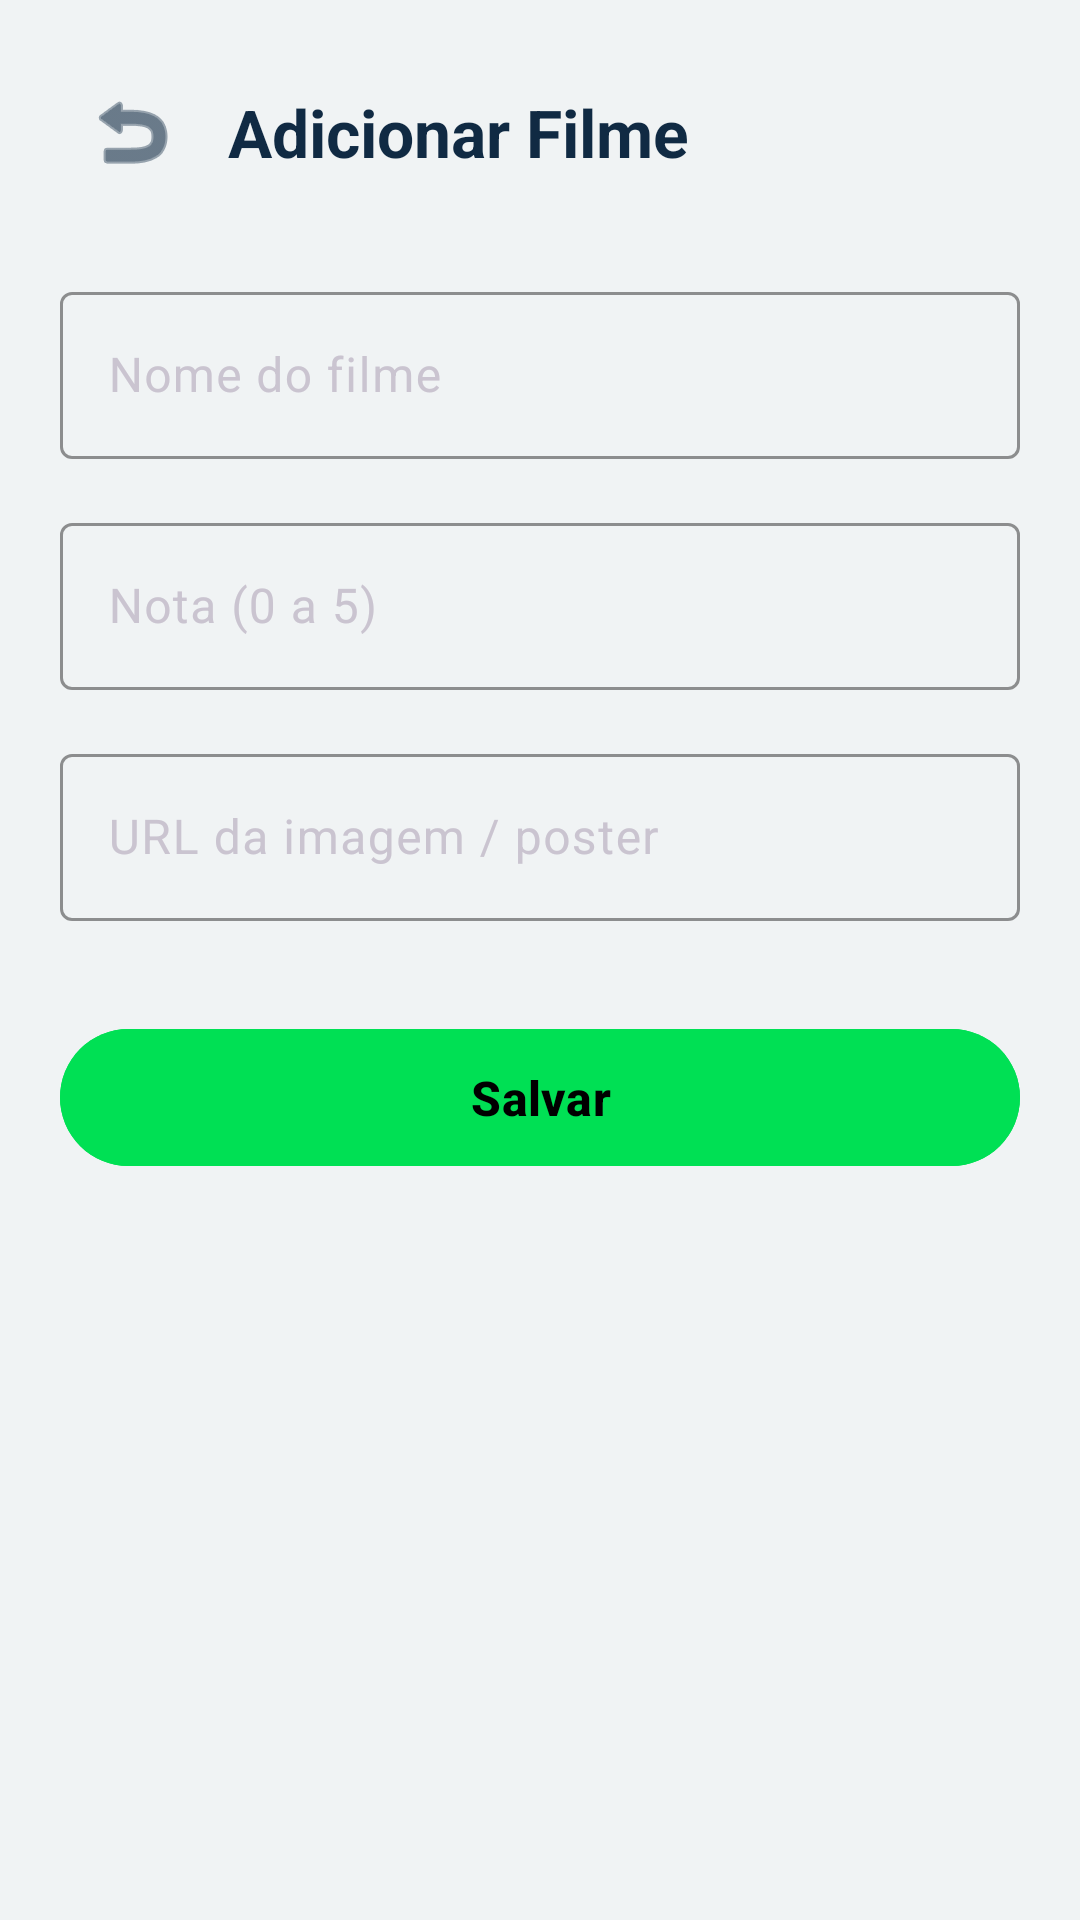

Named icons in this screenshot (1080 × 1920) and their centers, [x,y]:
Cancelar: [133,132]
